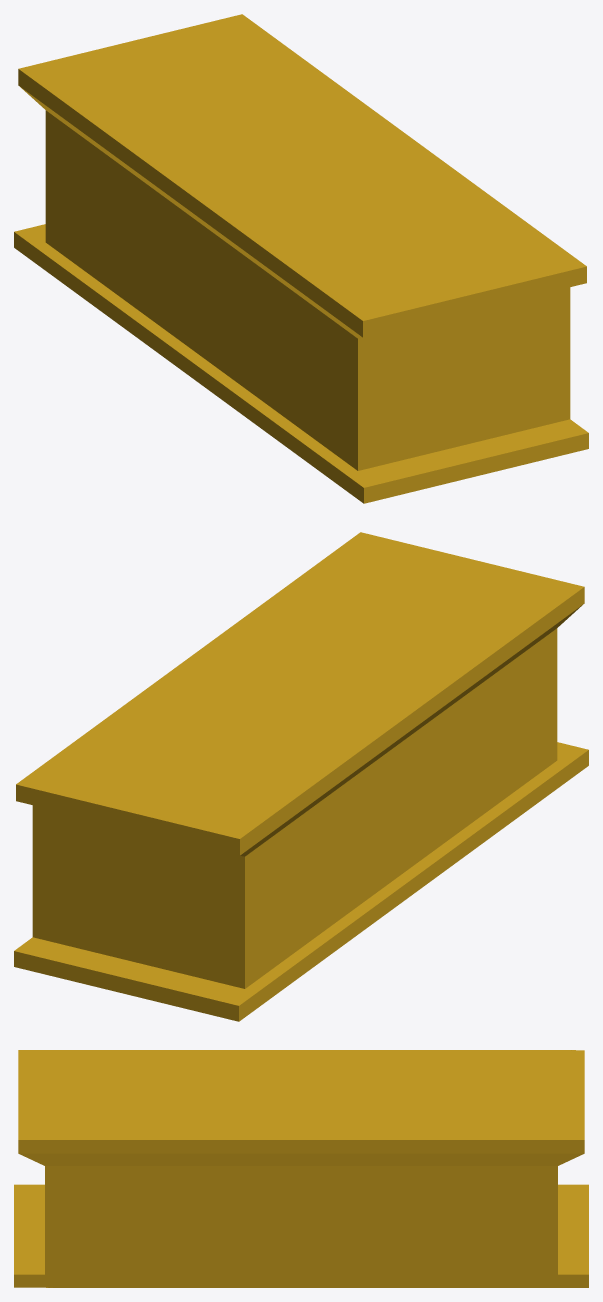
The model's file is Stage.fbx.
3 renders of one model, top to bottom at view 1: azimuth 30°, elevation 25°; view 2: azimuth 150°, elevation 25°; view 3: azimuth 270°, elevation 25°, orthographic. The views are drawn at different scales.
Parts seen in each view (by area): view 1: Base; view 2: Base; view 3: Base.
Part boxes in pixels (box(x1,y1,x2,y2)): Base: box(14, 14, 588, 503); Base: box(14, 532, 588, 1021); Base: box(14, 1050, 588, 1287).
Bounding box in the file's own units: 470 × 359 × 1262.
